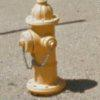Hydrant: (12, 1, 72, 98)
